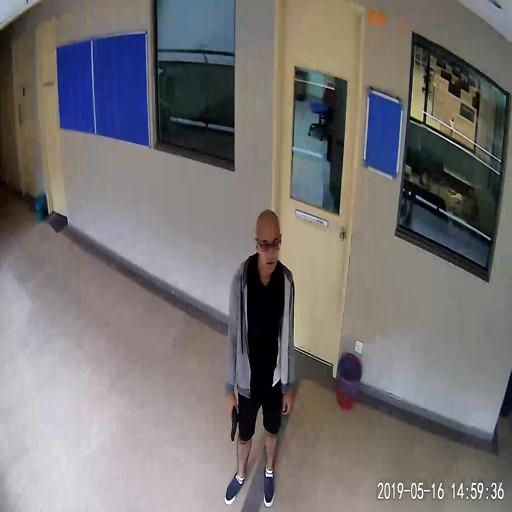pistol: (227, 402, 238, 441)
